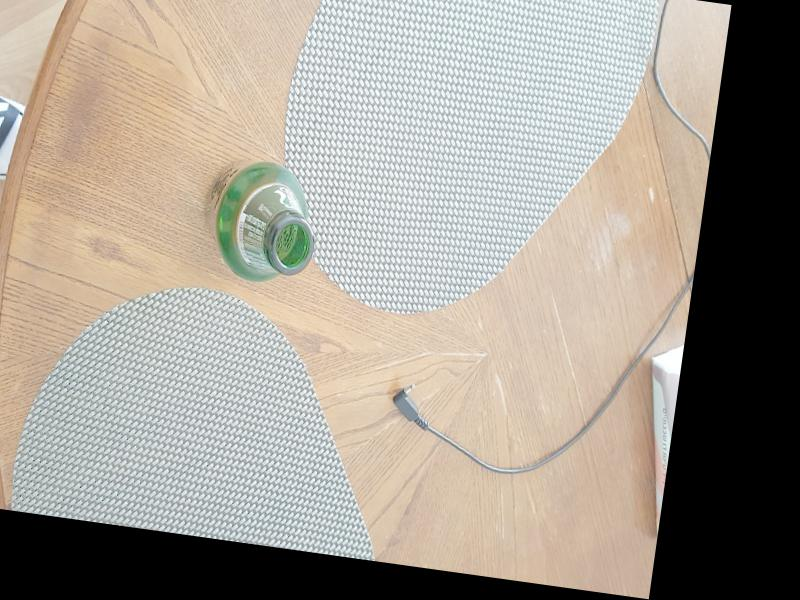Beer: (197, 154, 324, 290)
